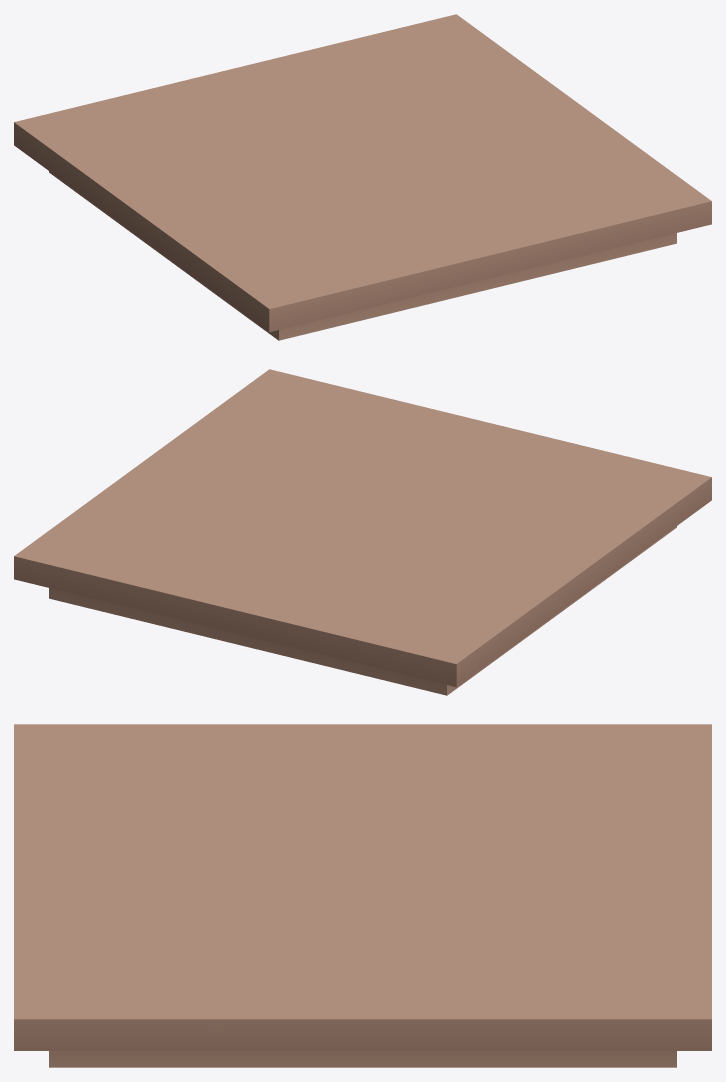
The model's file is surfaces-surface-square-edge.glb.
The picture shows the model from 3 angles, top to bottom: view 1: azimuth 30°, elevation 25°; view 2: azimuth 150°, elevation 25°; view 3: azimuth 270°, elevation 25°; orthographic projection. The views are drawn at different scales.
Parts seen in each view (by area): view 1: surfaces-surface-square-edge; view 2: surfaces-surface-square-edge; view 3: surfaces-surface-square-edge.
Boxes of the visible parts, left/top/right/bottom form: surfaces-surface-square-edge: left=14, top=14, right=711, bottom=340; surfaces-surface-square-edge: left=14, top=369, right=711, bottom=695; surfaces-surface-square-edge: left=14, top=724, right=711, bottom=1067.
Bounding box in the file's own units: 1 × 0.1 × 1.
